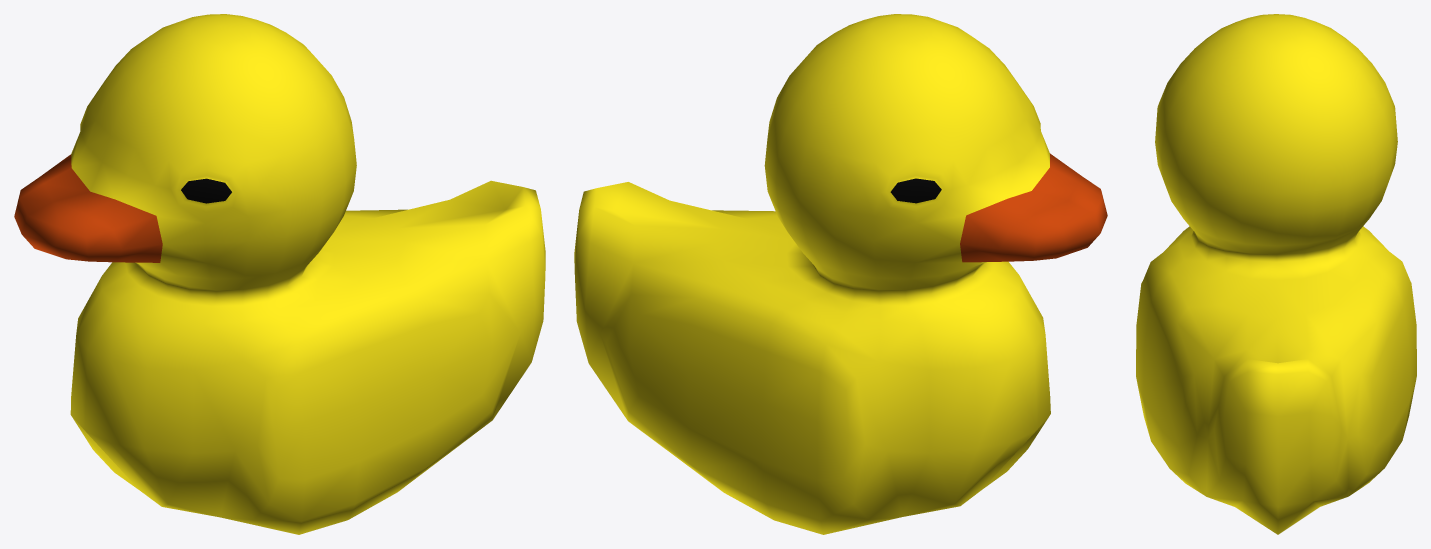
The model's file is rubber_duck.obj.
3 renders of one model, left to right at view 1: azimuth 30°, elevation 25°; view 2: azimuth 150°, elevation 25°; view 3: azimuth 270°, elevation 25°, orthographic. The views are drawn at different scales.
Parts seen in each view (by area): view 1: Material_001-material, Material_002-material, Eyes-material; view 2: Material_001-material, Material_002-material, Eyes-material; view 3: Material_001-material.
Part boxes in pixels (x1,y1,x2,y2): Material_001-material: (70,14,545,534); Material_002-material: (14,154,162,262); Eyes-material: (181,178,231,203); Material_001-material: (574,14,1050,534); Material_002-material: (960,153,1107,262); Eyes-material: (890,178,941,203); Material_001-material: (1136,14,1416,534).
Size of the model in its own units: 0.3989 by 0.3439 by 0.2117.
